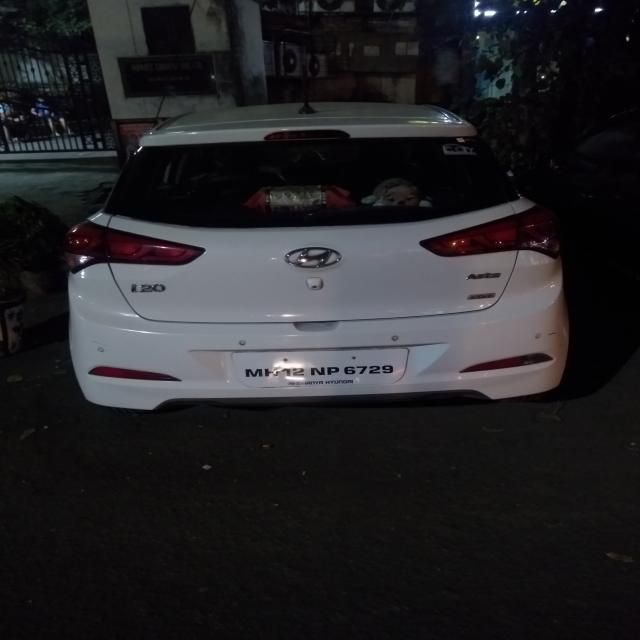Number-Plate: (243, 350, 406, 388)
